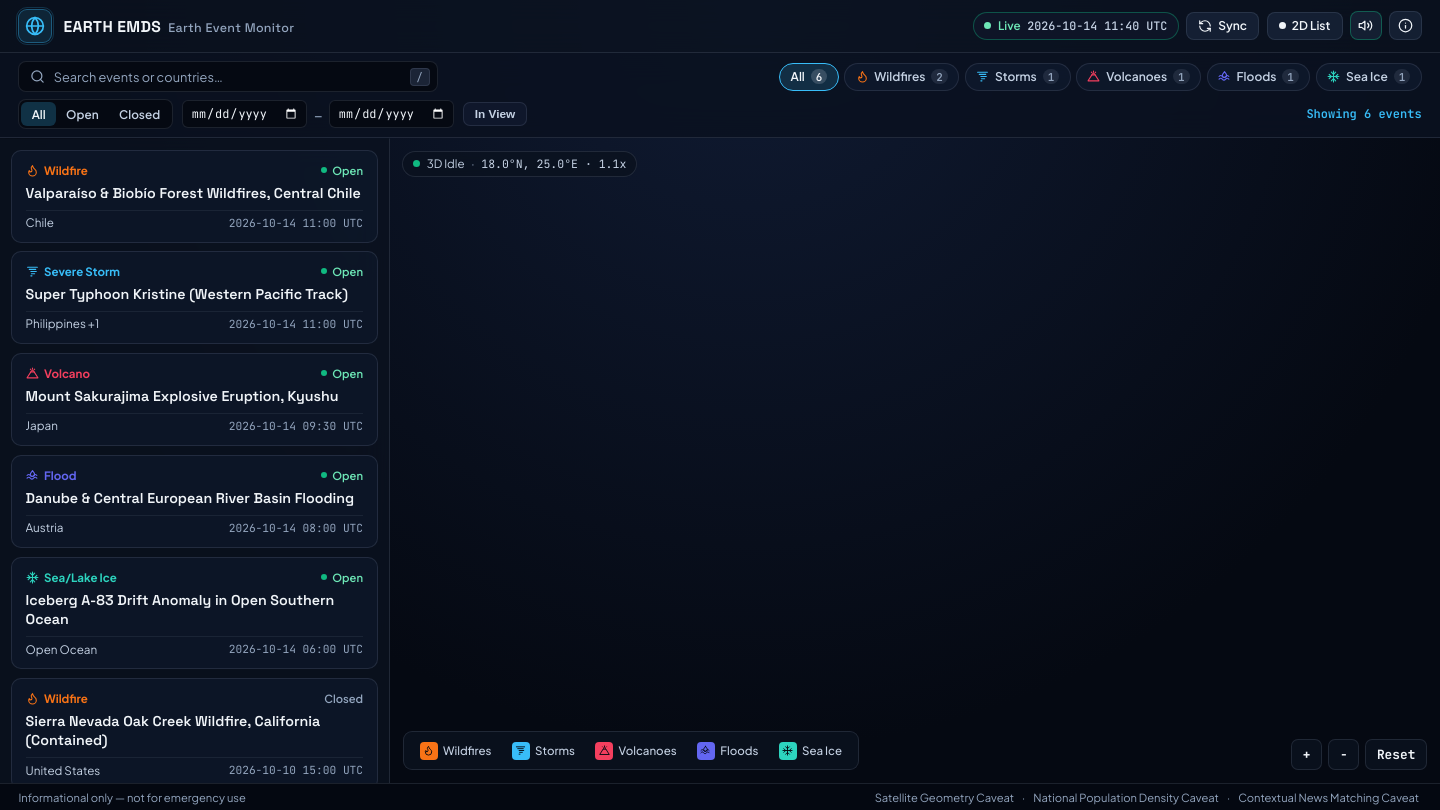
EARTH EMDS Frontend Application & Components › renders ranked NewsAPI articles with match reason chips and target="_blank" rel="noopener noreferrer" on all external links
Click the option with test id "event-list-item-EONET_6401".
click(194, 196)  # box [11, 150, 378, 243]
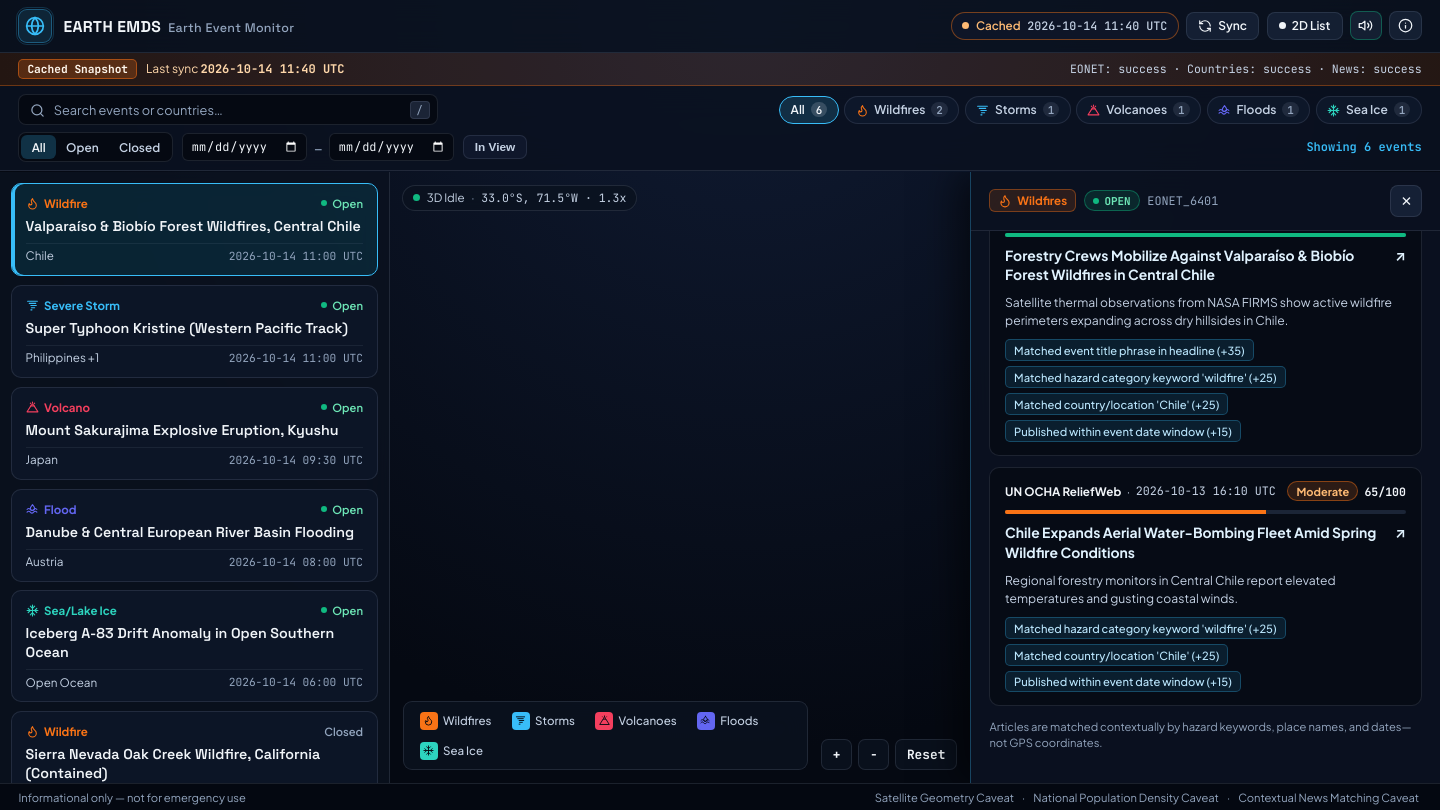
Expected: the element with test id "scored-article-card" that starts with "Google News Dispatch" is shown, [989, 231, 1422, 456]
